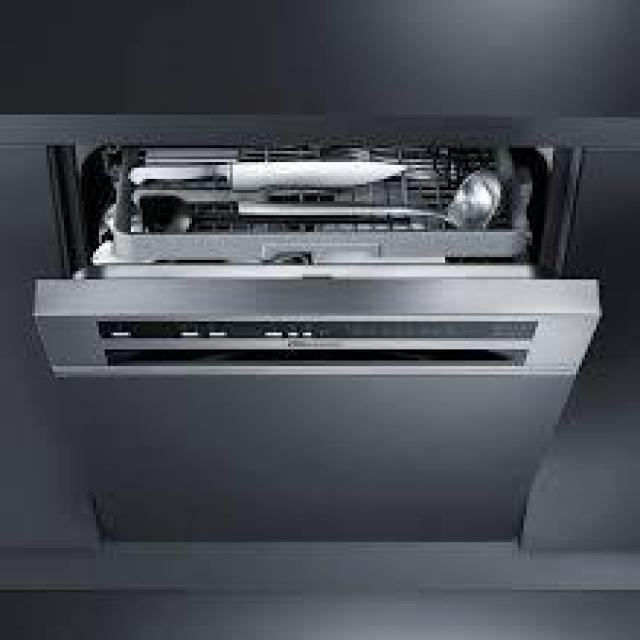dishwasher: (44, 143, 605, 584)
